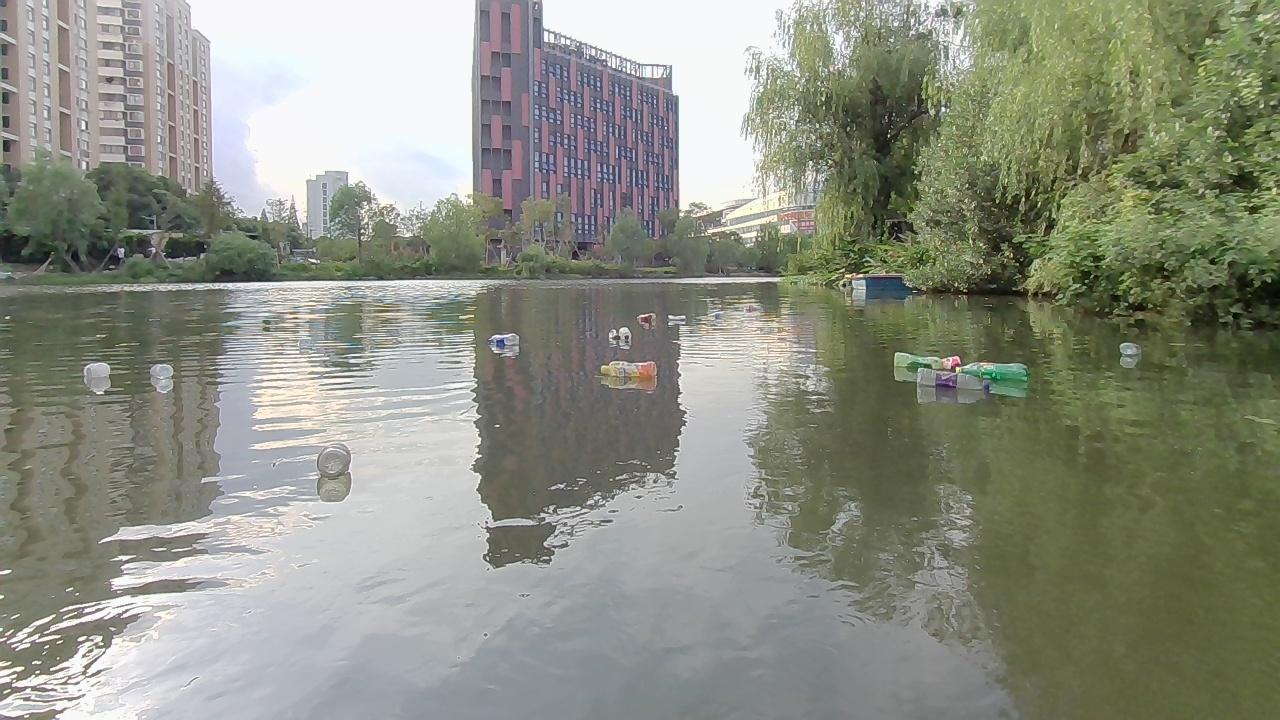bottle: (914, 365, 995, 395), (952, 358, 1028, 388), (315, 440, 351, 481), (598, 359, 660, 382), (894, 348, 940, 372), (145, 359, 176, 382), (486, 332, 520, 347), (84, 363, 111, 381), (1116, 338, 1137, 356), (609, 324, 628, 342), (636, 310, 655, 326), (665, 311, 683, 324)
